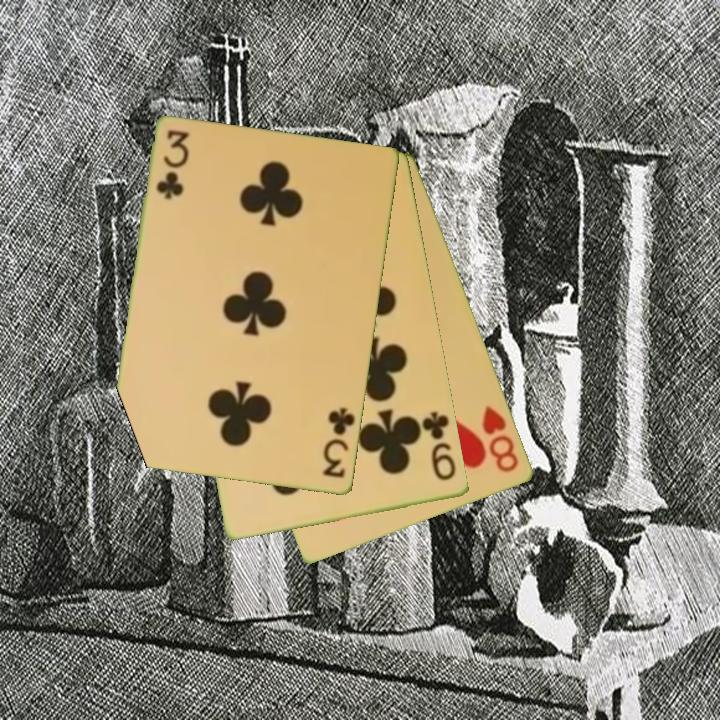3c: (319, 404, 359, 482), (153, 126, 191, 203)
8h: (479, 402, 522, 476)
9c: (419, 408, 459, 484)
